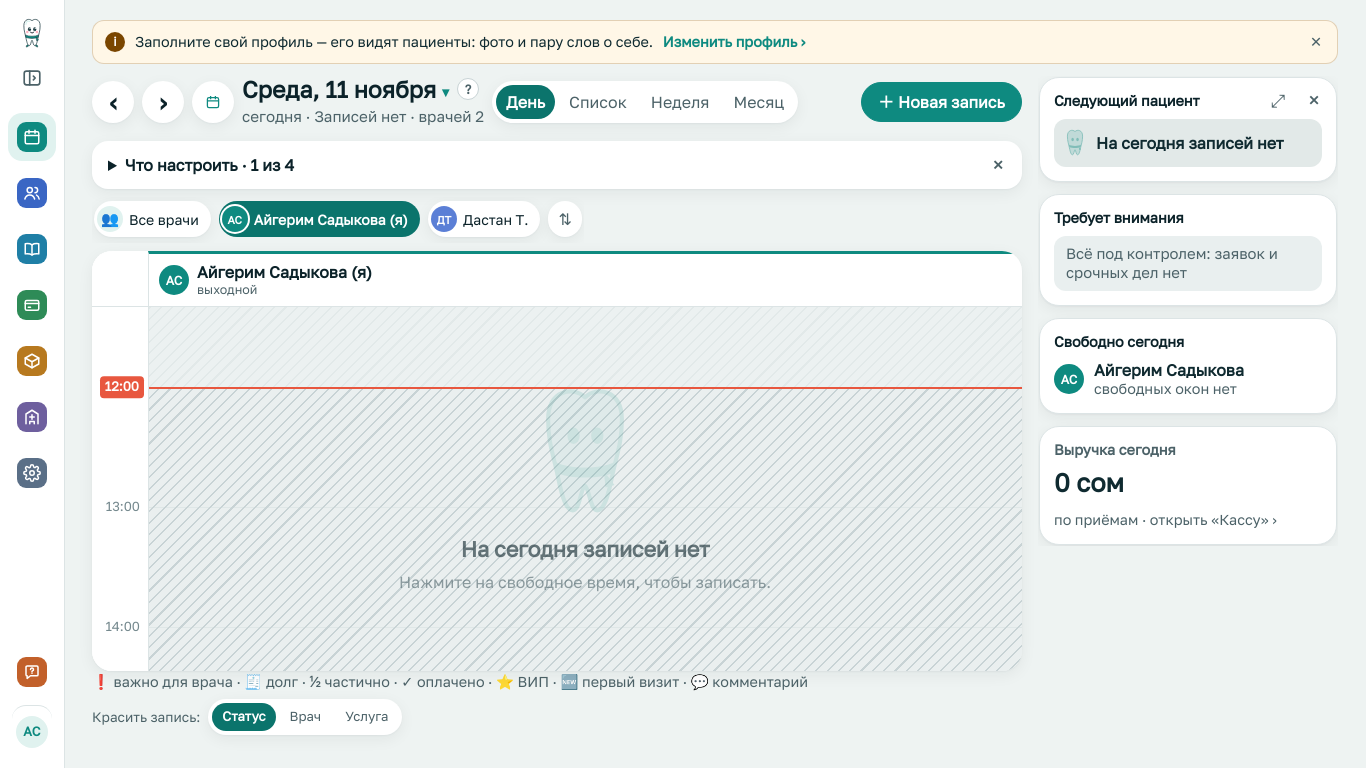
Test: скрытый раздел не опрашивает сервер и не перечитывает при фокусе; вернулись — свежие данные
The image size is (1366, 768).
Later steps or results of the test are not shown.
(page scrolled)
Click the button named "Пациенты". click: point(32, 193)
box: [8,169,56,217]
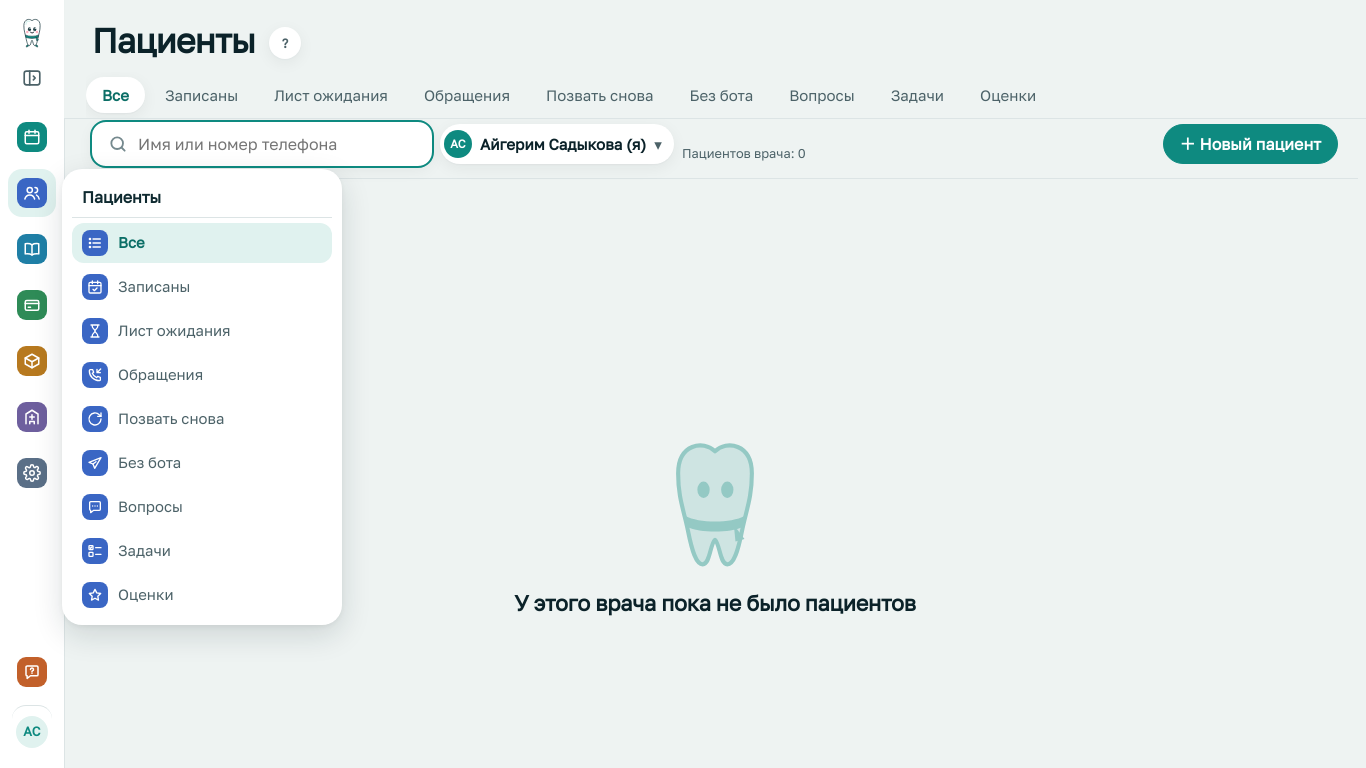
Now the search field with placeholder "Имя или номер телефона" is shown, box [92,122,432,166]
